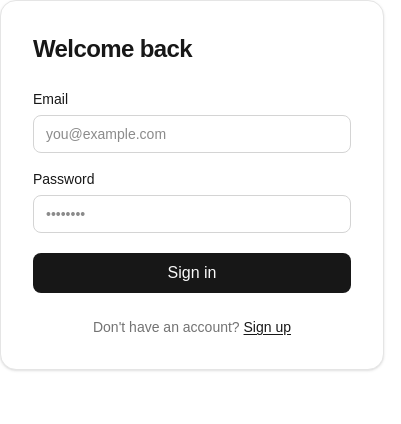
Test: AuthForm interactions › shows error message from friendlyAuthError on failed signIn
Type "user@example.com" into the field labelled "Email". click: [192, 134]
box: [33,115,351,153]
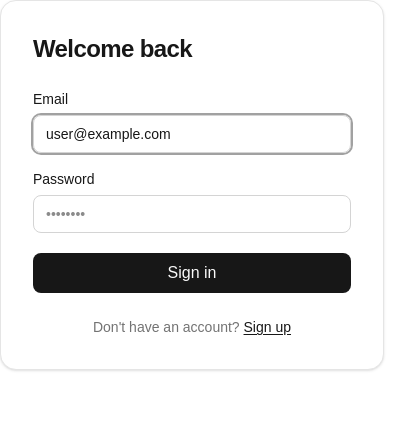
Type "wrongpass" into the password field labelled "Password". click: [192, 214]
box: [33,195,351,233]
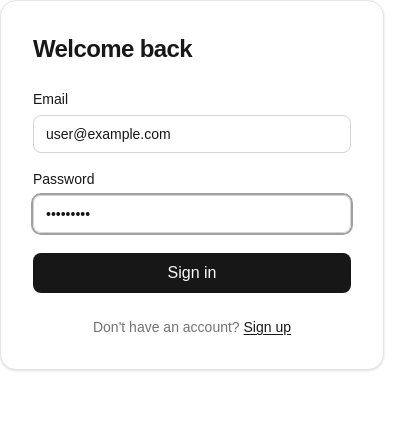
Click the button "Sign in". click: [192, 273]
box: [33,253,351,293]
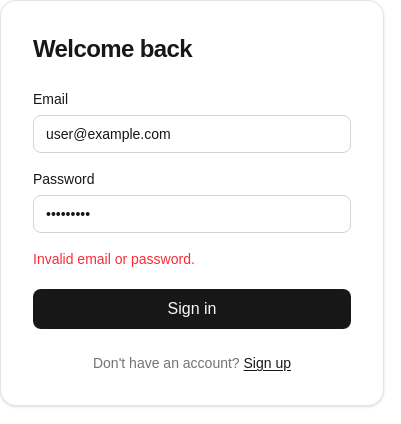
Expected: the text "Invalid email or password." is shown, [33,251,195,267]
